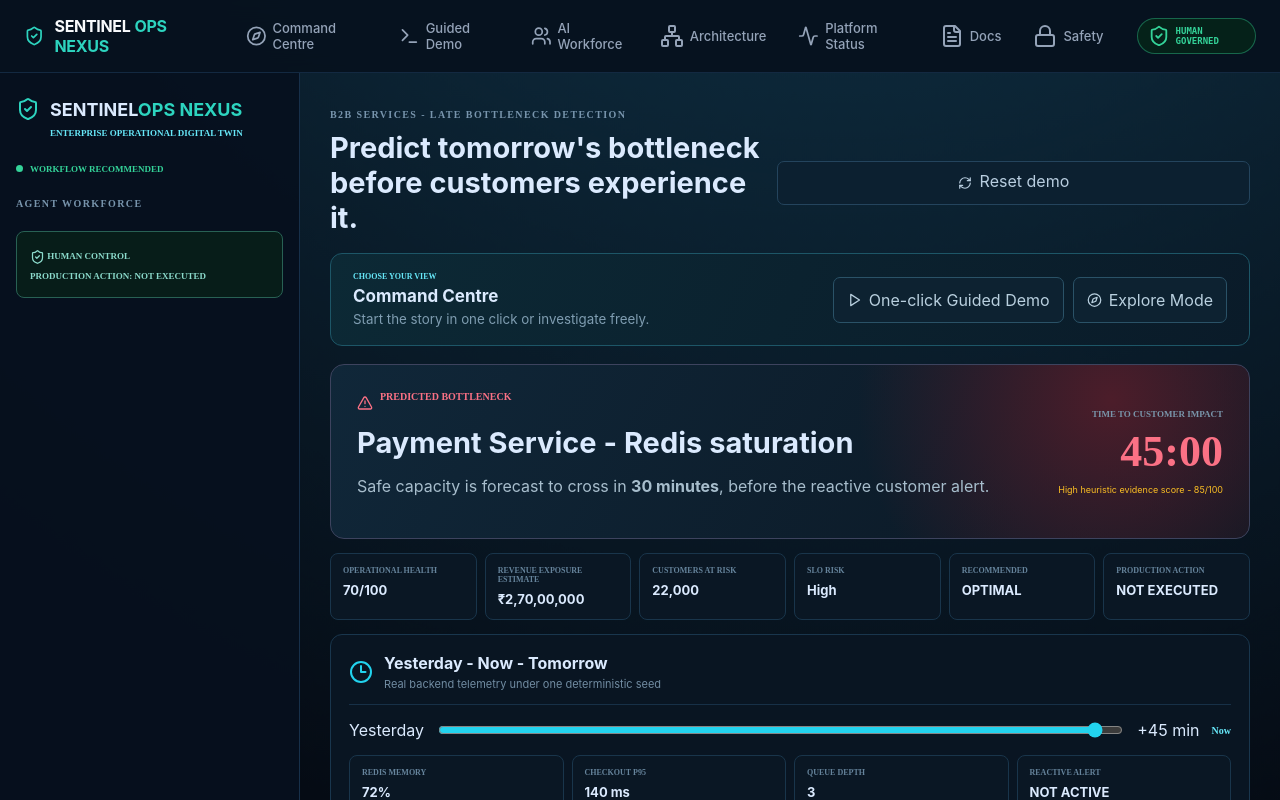
SentinelOps Nexus › starts the guided demo in one click without approving
Click the button "One-click Guided Demo": [948, 300] box top-left (833, 276), bottom-right (1064, 322)
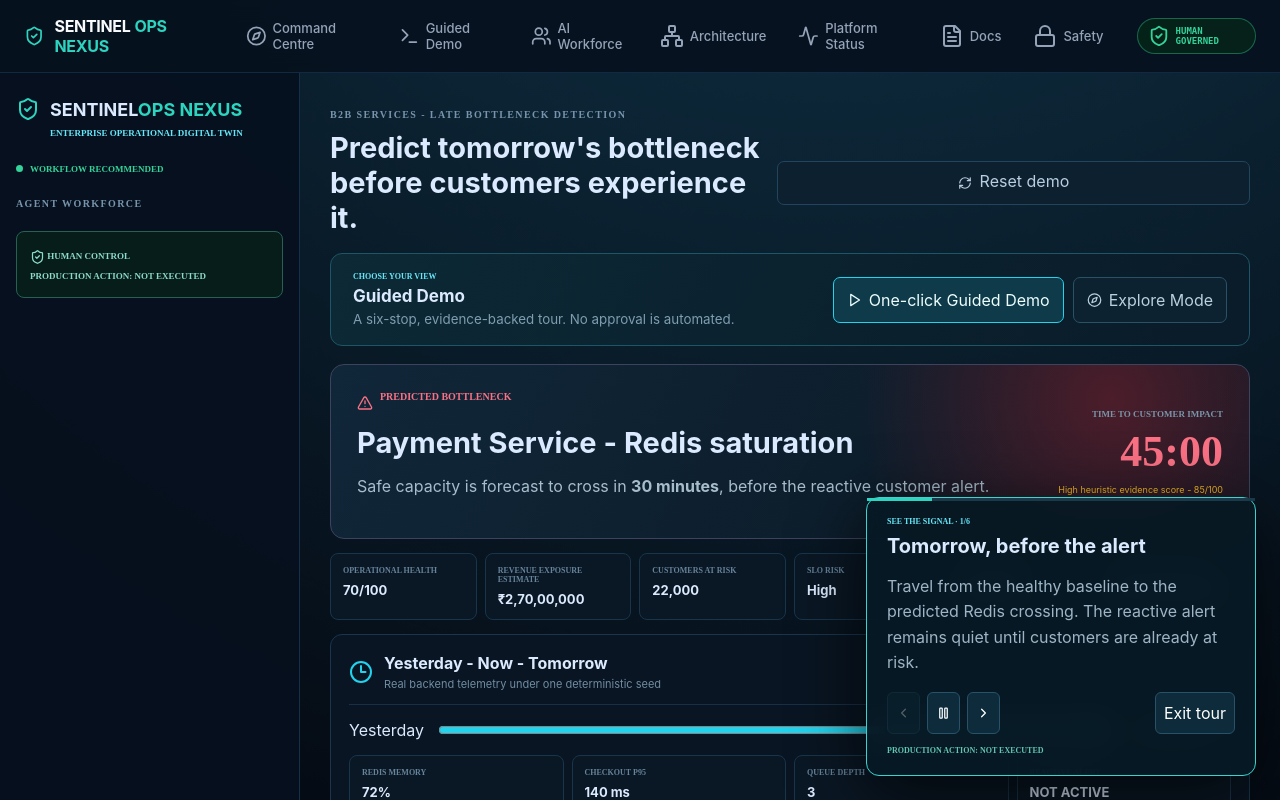
expect the text "PRODUCTION ACTION: NOT EXECUTED" below "HUMAN CONTROL" is shown: met, box top-left (30, 271), bottom-right (206, 281)
expect the dialog named "Guided Demo" is shown: met, box top-left (866, 497), bottom-right (1256, 776)
expect the heading "Tomorrow, before the alert" is shown: met, box top-left (887, 534), bottom-right (1146, 558)
